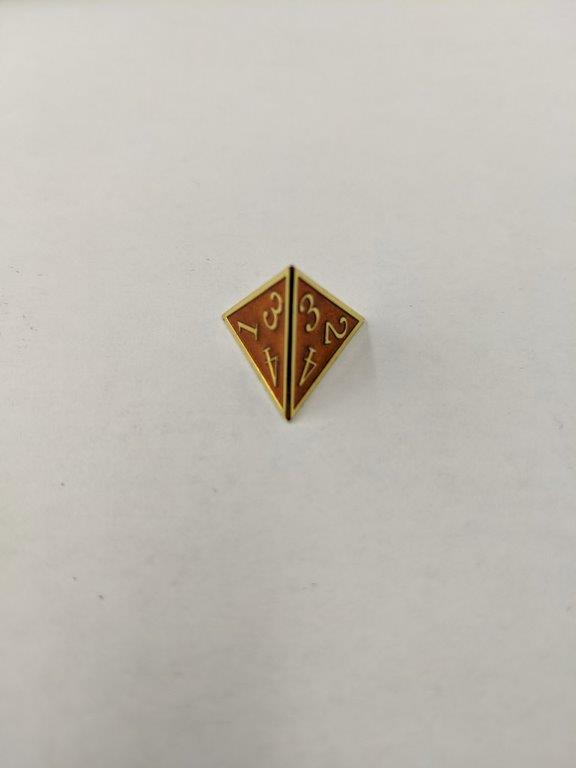d4-3: (220, 264, 370, 424)
